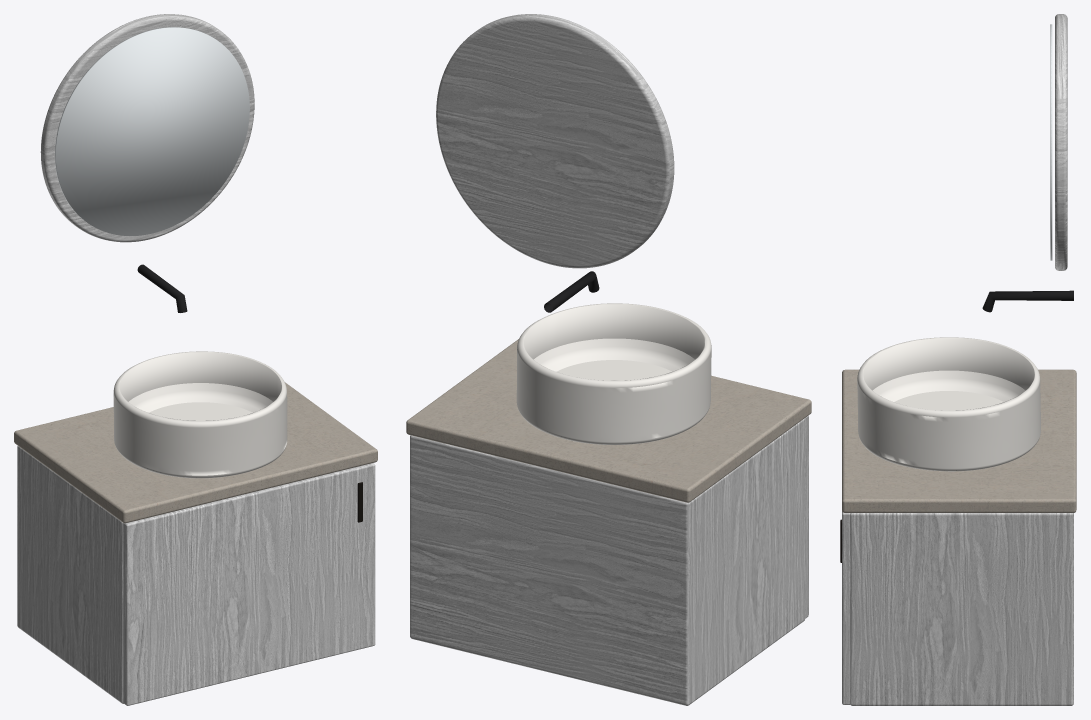
File: vanity-600.gltf
The picture shows the model from 3 angles, left to right: view 1: azimuth 30°, elevation 25°; view 2: azimuth 150°, elevation 25°; view 3: azimuth 270°, elevation 25°; orthographic projection. The views are drawn at different scales.
Parts seen in each view (by area): view 1: vanity; view 2: vanity; view 3: vanity.
Part boxes in pixels (x1,y1,x2,y2): vanity: [14, 14, 377, 705]; vanity: [406, 14, 811, 705]; vanity: [840, 14, 1076, 705].
Size of the model in its own units: 0.61 by 1.33 by 0.463.
Materials: 7 (2 with a texture image).
